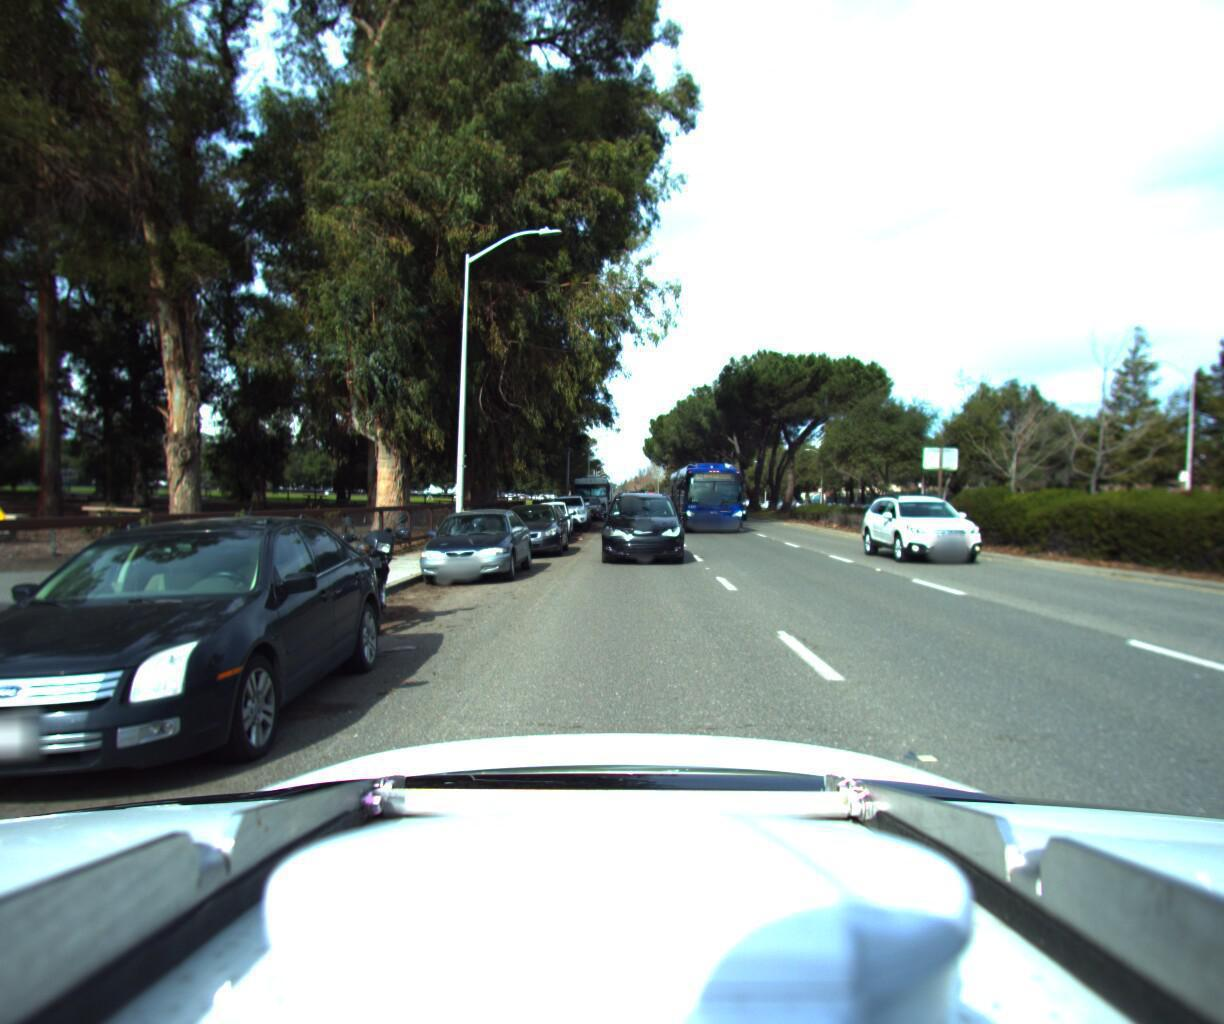bus: (667, 456, 751, 533)
car: (0, 506, 400, 850), (864, 483, 1017, 562), (409, 500, 537, 586), (597, 479, 684, 560), (491, 495, 571, 556), (517, 496, 569, 541), (545, 486, 590, 527), (529, 493, 574, 532), (576, 488, 603, 515)
motorcycle: (291, 505, 442, 636)
other_vehicle: (566, 466, 610, 513)
